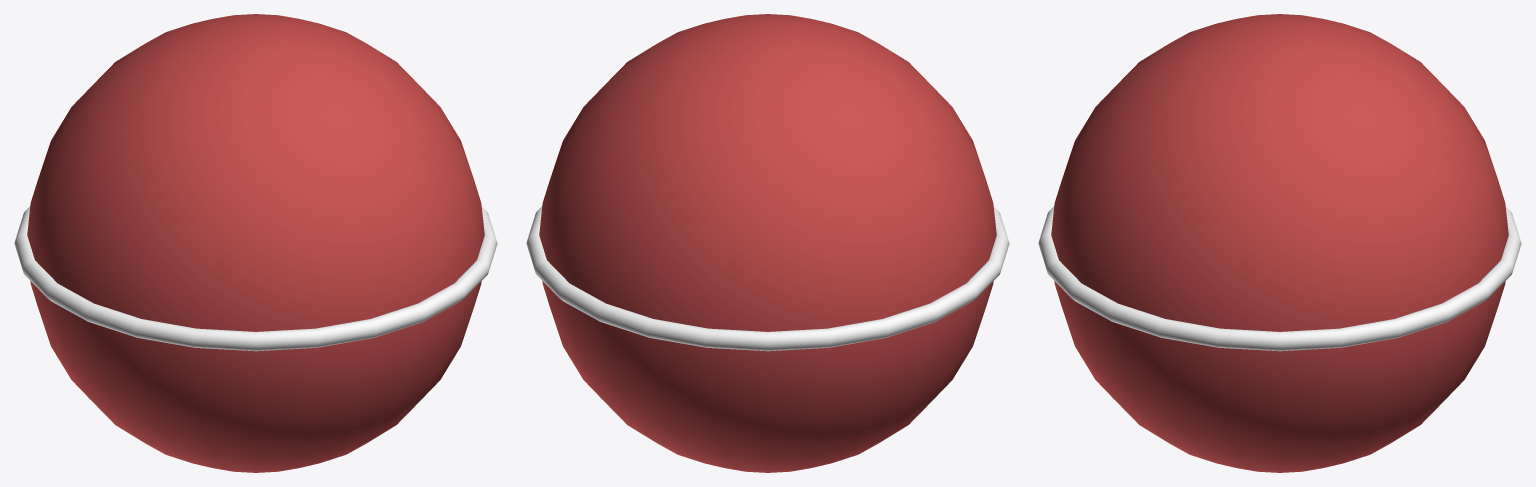
Rendered from cricket_ball.glb.
3 renders of one model, left to right at view 1: azimuth 30°, elevation 25°; view 2: azimuth 150°, elevation 25°; view 3: azimuth 270°, elevation 25°, orthographic.
Visible parts, largest first — view 1: core, seam; view 2: core, seam; view 3: core, seam.
Part boxes in pixels (x1=…): core: x1=27, y1=14, x2=484, y2=472; seam: x1=14, y1=206, x2=497, y2=351; core: x1=539, y1=14, x2=996, y2=472; seam: x1=526, y1=206, x2=1009, y2=351; core: x1=1051, y1=14, x2=1508, y2=472; seam: x1=1038, y1=206, x2=1521, y2=351.
Size of the model in its own units: 1.22 by 1.16 by 1.22.
